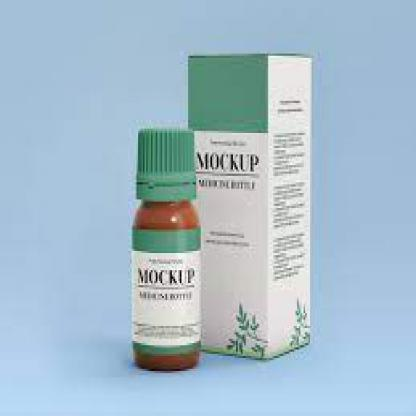jar: (132, 128, 202, 370)
